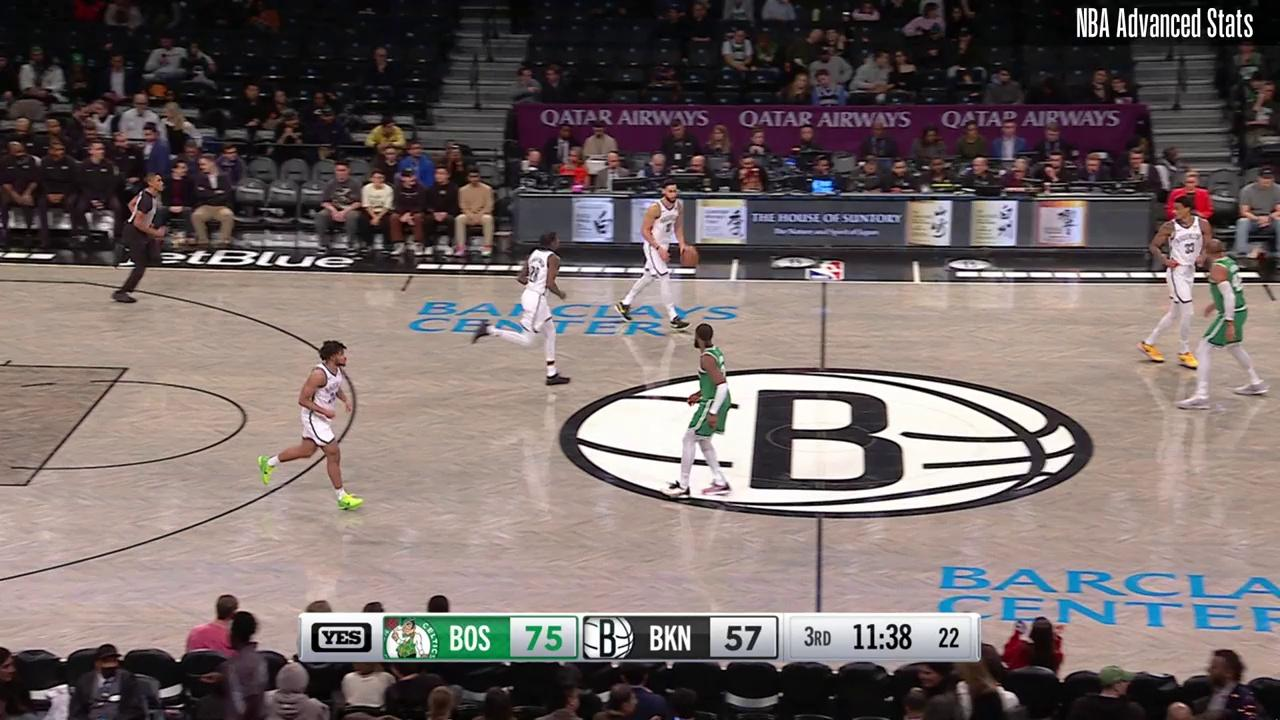free_adx: (121, 363, 134, 374)
free_asx: (20, 479, 31, 489)
half_dx: (818, 277, 831, 290)
mid_dx: (1268, 296, 1279, 305)
mid_sx: (397, 285, 409, 295)
referee: (109, 169, 167, 307)
team: (1182, 238, 1270, 409), (667, 324, 734, 495)
team1: (256, 338, 366, 513), (475, 233, 570, 385), (1146, 195, 1214, 368), (619, 179, 693, 333)
timer: (849, 616, 915, 655)
